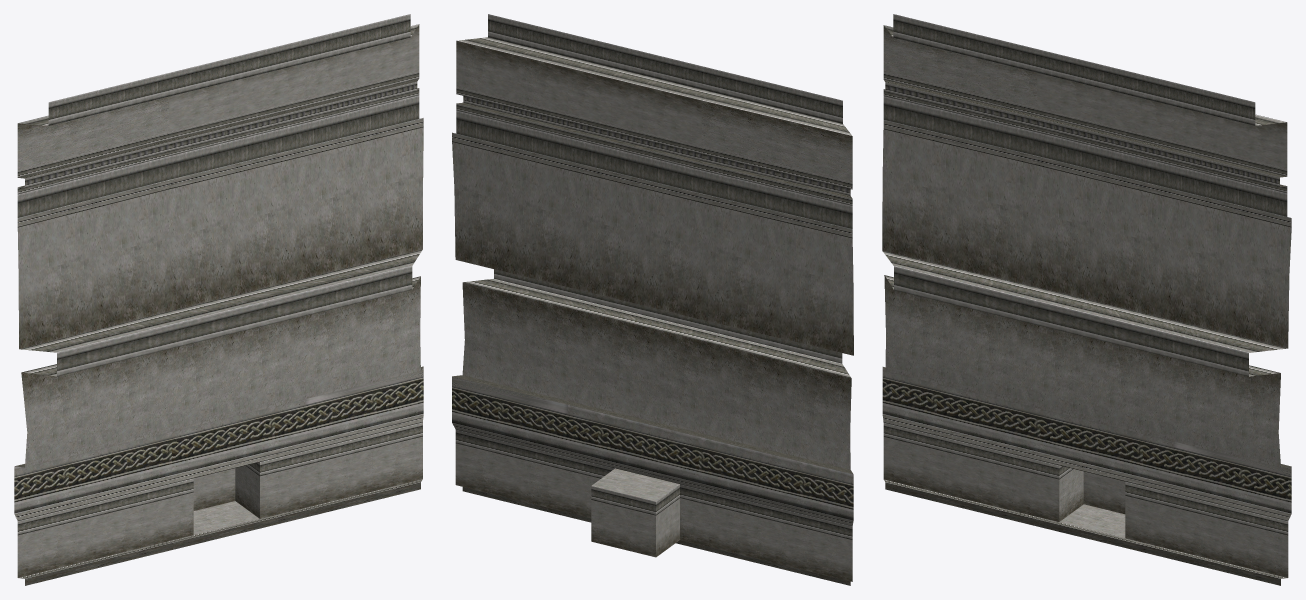
Rendered from DWARF_PALACE_MAINHALL_WALL02B01.fbx.
The picture shows the model from 3 angles, left to right: view 1: azimuth 30°, elevation 25°; view 2: azimuth 150°, elevation 25°; view 3: azimuth 330°, elevation 25°; orthographic projection. The views are drawn at different scales.
Visible parts, largest first — view 1: DWARF_PALACE_MAINHALL_WALL02B01; view 2: DWARF_PALACE_MAINHALL_WALL02B01; view 3: DWARF_PALACE_MAINHALL_WALL02B01.
Boxes of the visible parts, x1,y1,x2,y2 form: DWARF_PALACE_MAINHALL_WALL02B01: (14,14,423,585); DWARF_PALACE_MAINHALL_WALL02B01: (452,14,853,585); DWARF_PALACE_MAINHALL_WALL02B01: (882,14,1291,585).
Bounding box in the file's own units: 181000 × 205000 × 29771.
9 materials, 9 textured.
